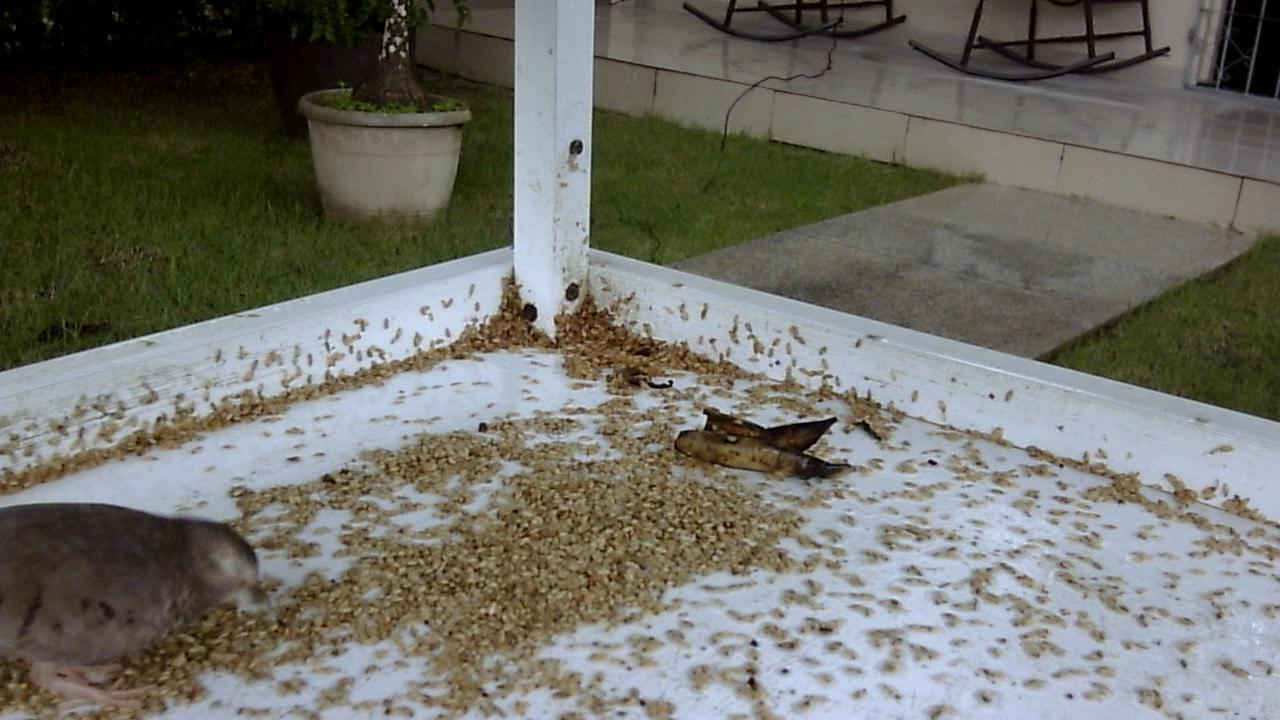rolinha: (4, 496, 271, 707)
